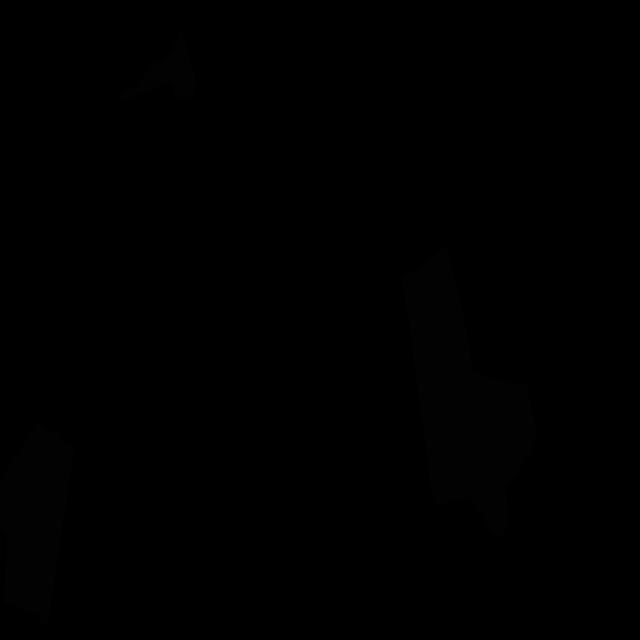cardboard: (400, 243, 495, 505), (0, 420, 74, 625), (470, 372, 538, 538), (122, 31, 196, 100)
